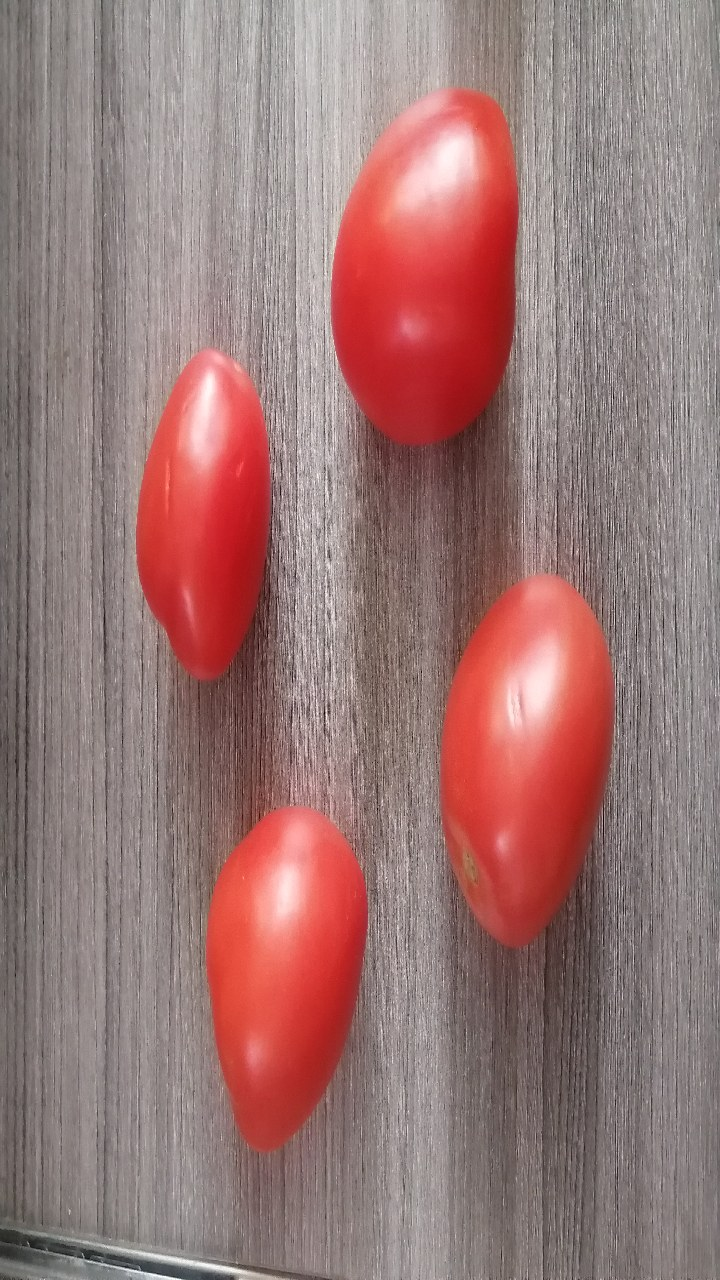tomateRojo: (404, 563, 635, 940), (169, 797, 389, 1172), (323, 86, 532, 449), (128, 335, 323, 699)
